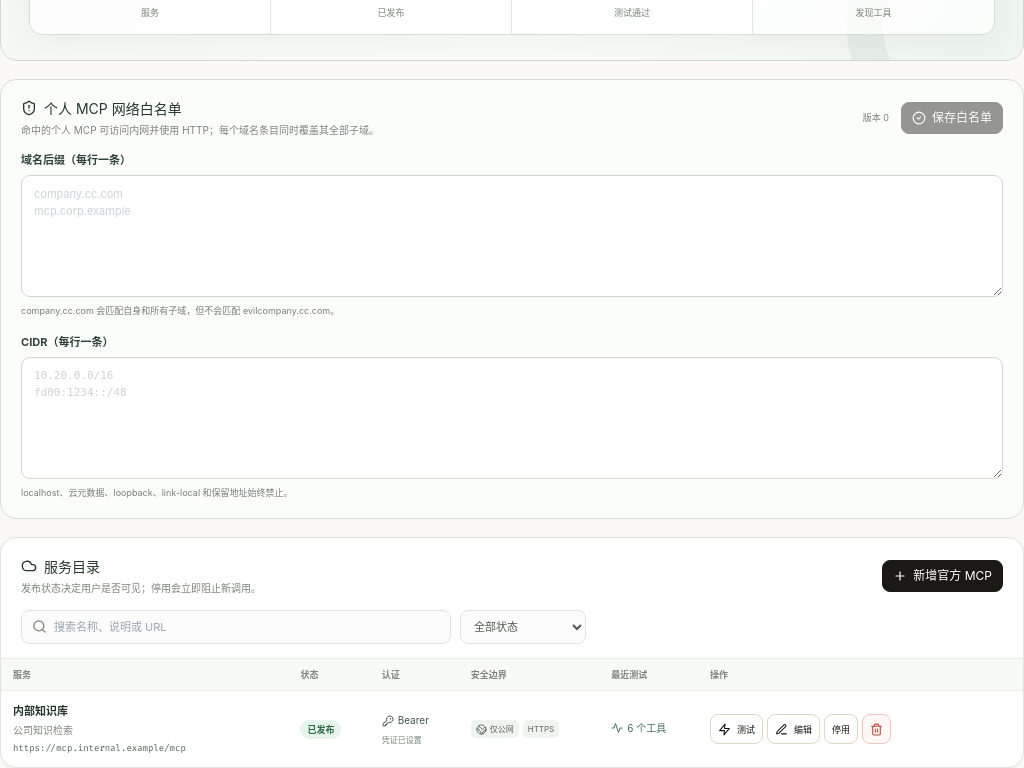
AdminMcpCatalogPanel › 展示官方目录并可测试连接
(page scrolled)
Expected: the text "内部知识库" is shown, x1=13 y1=704 x2=68 y2=718
Expected: the text "6 个工具" is shown, x1=611 y1=720 x2=666 y2=736
Click the button with aria-label "测试 内部知识库". click: (736, 729)
box: x1=710 y1=714 x2=763 y2=744
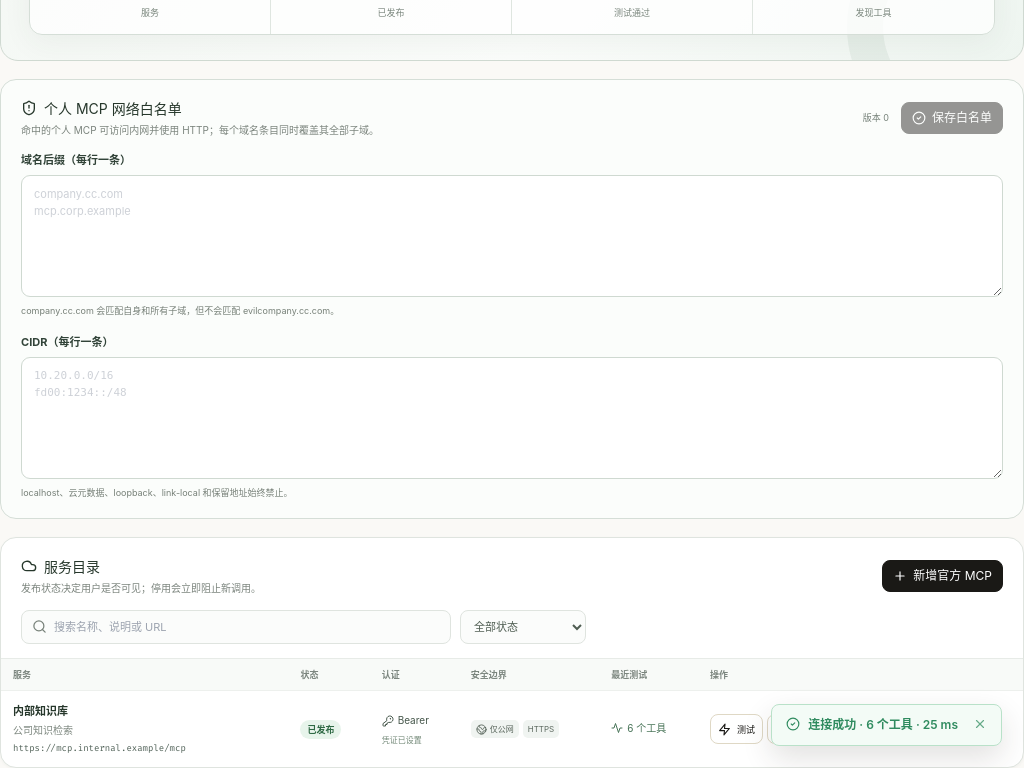
Now the message reads "连接成功 · 6 个工具 · 25 ms", box x1=808 y1=717 x2=958 y2=732
Click the button named "关闭提示". click: (980, 724)
box: x1=968 y1=712 x2=992 y2=736
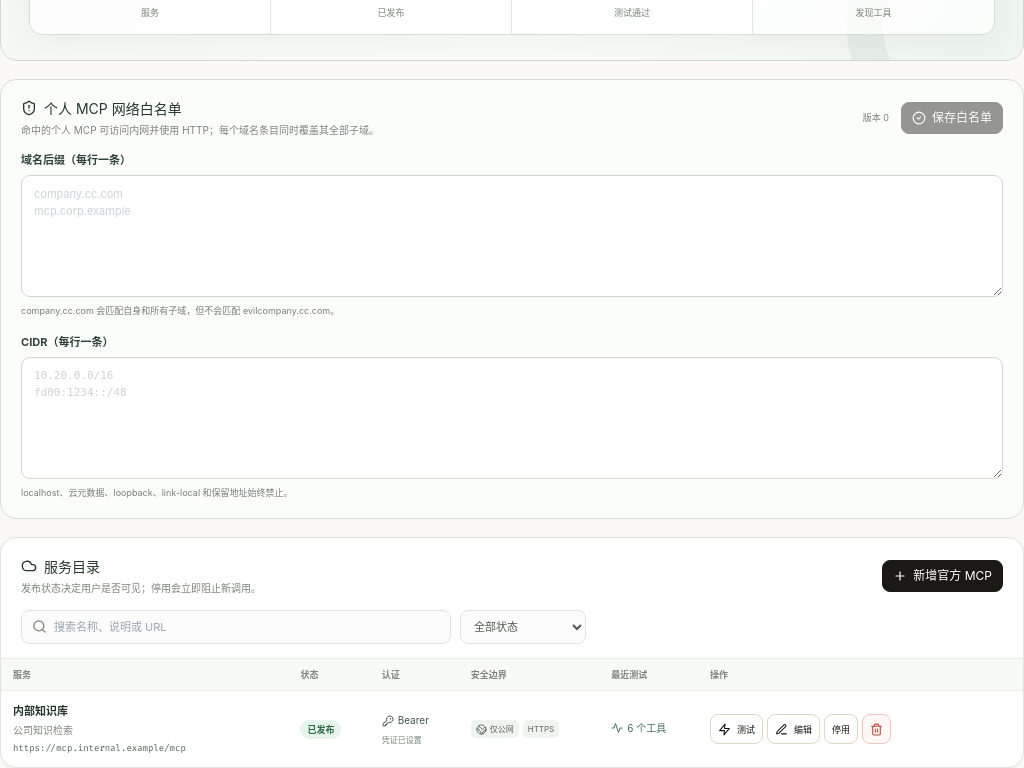
Now the message "连接成功 · 6 个工具 · 25 ms" is gone
